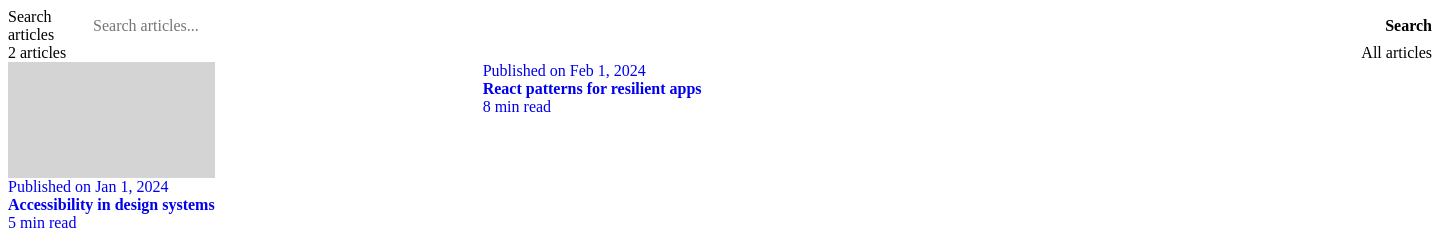
BlogSearch › clears the active search and removes it from the URL
Type "react" into the search field labelled "Search articles" at (739, 26), box x1=93 y1=17 x2=1385 y2=35
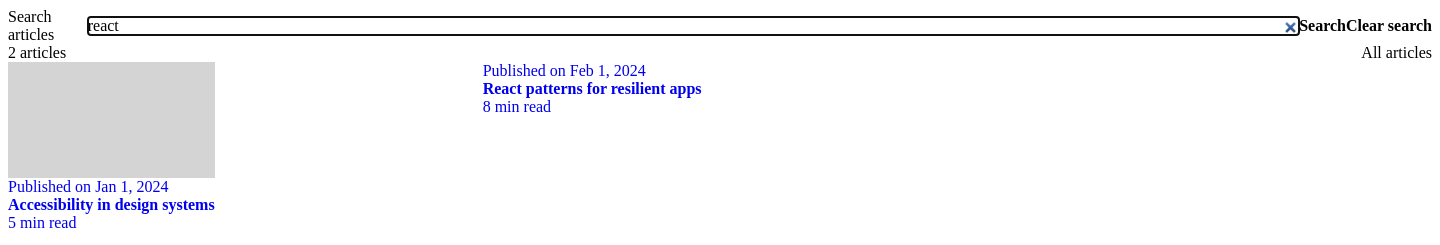
Click the button "Search" at (1322, 26), box x1=1299 y1=17 x2=1346 y2=35
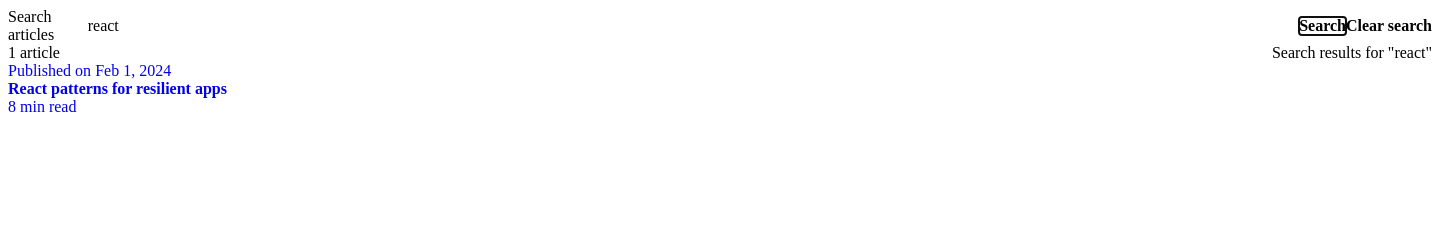
Click the button "Clear search" at (1389, 26), box x1=1346 y1=17 x2=1432 y2=35
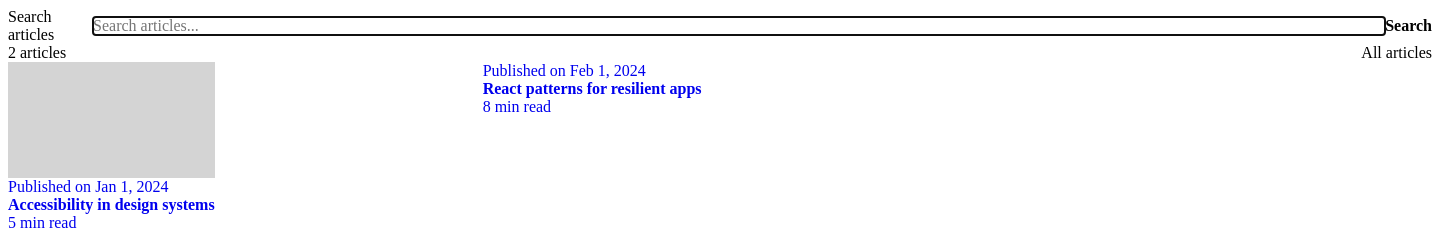
Expected: the search field labelled "Search articles" is empty, x1=93 y1=17 x2=1385 y2=35
Expected: the text "2 articles" is shown, x1=8 y1=44 x2=66 y2=62
Expected: the text "All articles" is shown, x1=1361 y1=44 x2=1432 y2=62
